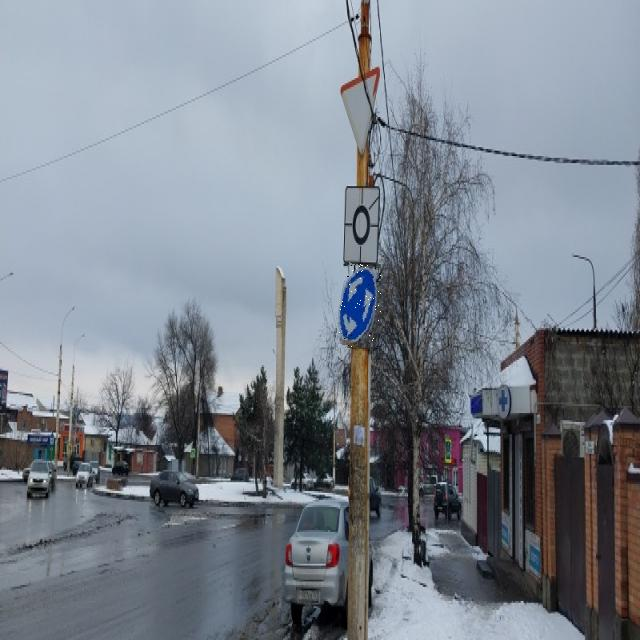roundabout: (338, 264, 381, 348)
